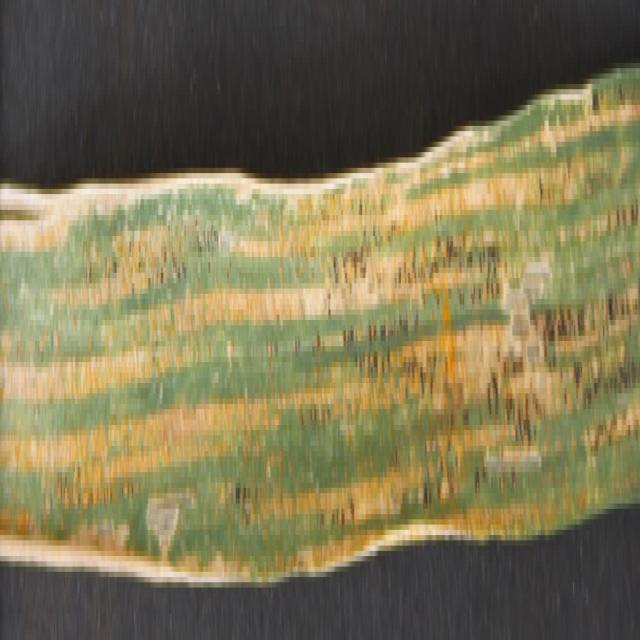leaf rust: (1, 26, 638, 562)
